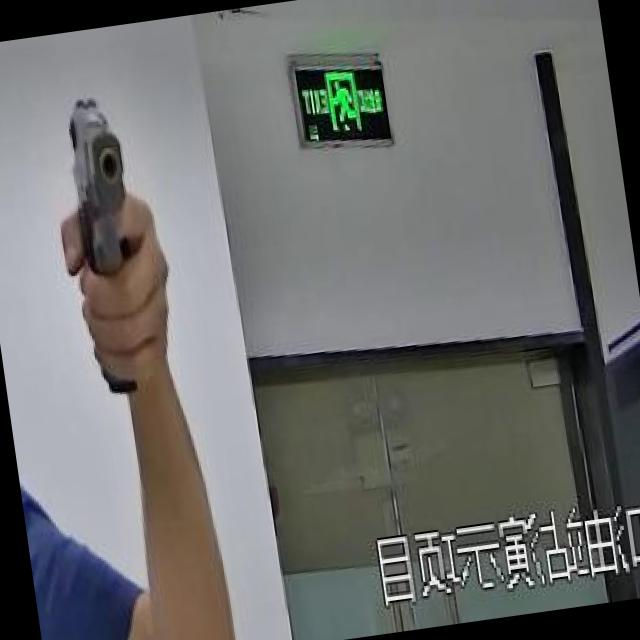Guns: (31, 34, 172, 415)
